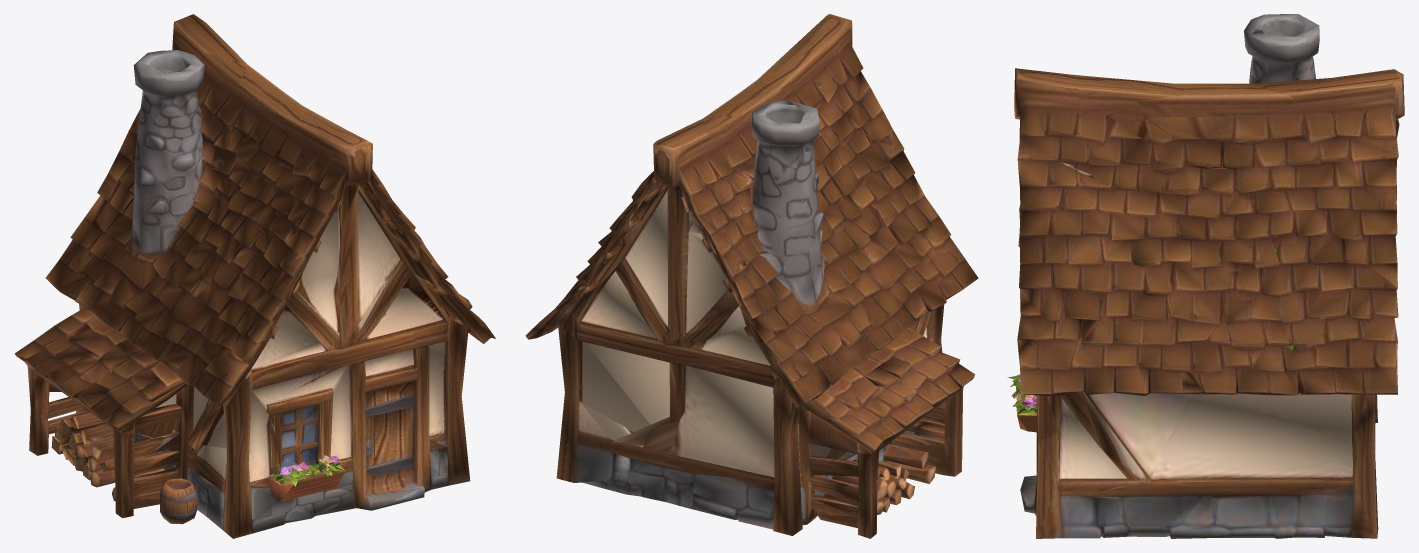
The model's file is house_b.glb.
The picture shows the model from 3 angles, left to right: view 1: azimuth 30°, elevation 25°; view 2: azimuth 150°, elevation 25°; view 3: azimuth 270°, elevation 25°; orthographic projection. The views are drawn at different scales.
Visible parts, largest first — view 1: house_b; view 2: house_b; view 3: house_b.
Boxes of the visible parts, <box> form: house_b: <box>14,14,495,538</box>; house_b: <box>525,14,978,538</box>; house_b: <box>1007,14,1404,538</box>.
Size of the model in its own units: 5.46 by 6.03 by 5.22.
1 material, 1 textured.
